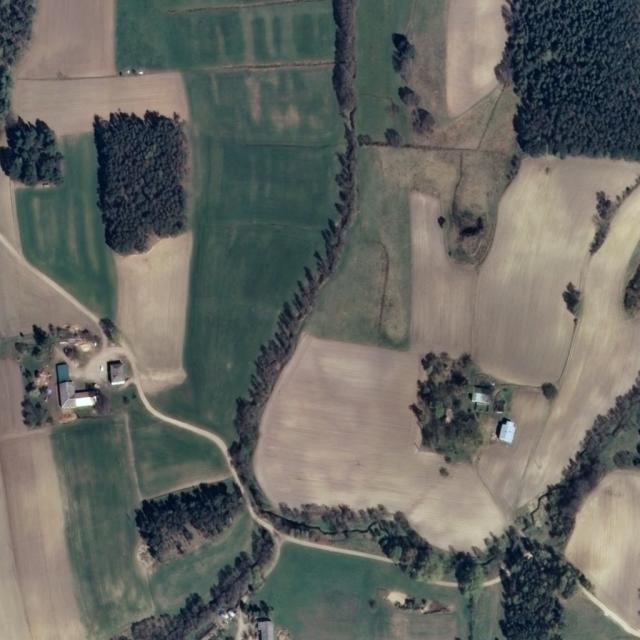agricultural_land: (242, 321, 542, 562), (305, 96, 525, 377), (467, 378, 554, 515), (12, 72, 190, 138), (410, 191, 476, 356), (406, 82, 517, 152), (0, 118, 62, 186)
building: (55, 359, 97, 410), (493, 416, 518, 444), (55, 361, 70, 385), (471, 392, 490, 404)
dryland: (439, 121, 640, 399), (0, 235, 99, 337), (0, 166, 21, 254)
greenland: (113, 0, 368, 440), (210, 0, 404, 529), (111, 526, 308, 640), (271, 472, 459, 588), (112, 524, 295, 640), (10, 138, 115, 322), (92, 107, 194, 256), (126, 392, 231, 500), (130, 474, 251, 563), (92, 109, 161, 255), (404, 347, 485, 467), (353, 0, 414, 141), (15, 325, 56, 428), (0, 118, 62, 186), (234, 611, 248, 640)
